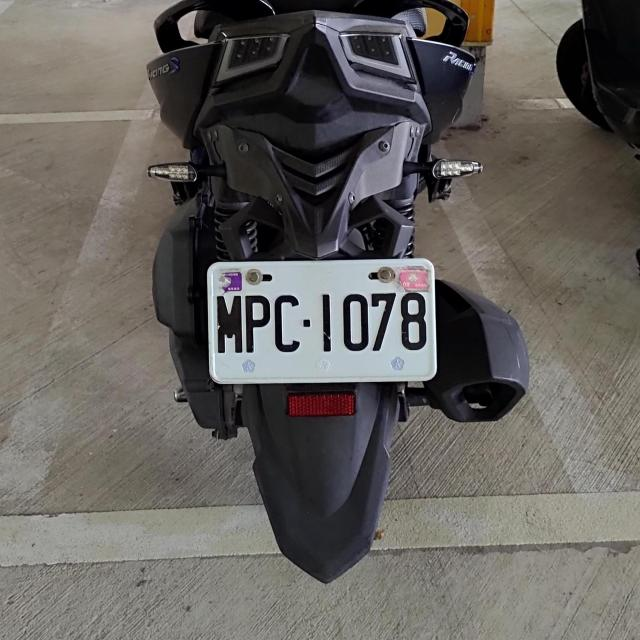W: (205, 255, 437, 383)
